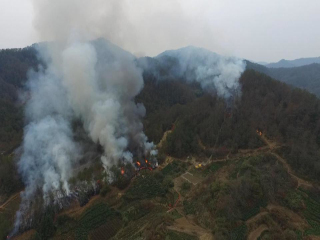smoke: (15, 18, 160, 205), (180, 38, 247, 103)
